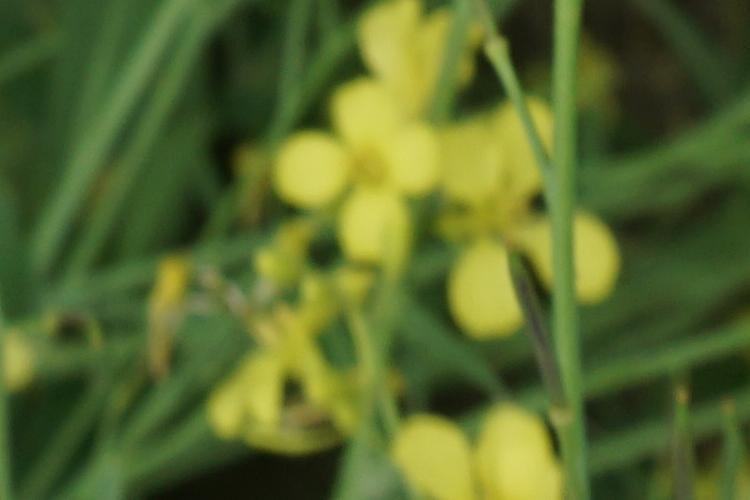yellow: (437, 140, 635, 332), (284, 94, 434, 252), (405, 387, 561, 497)
